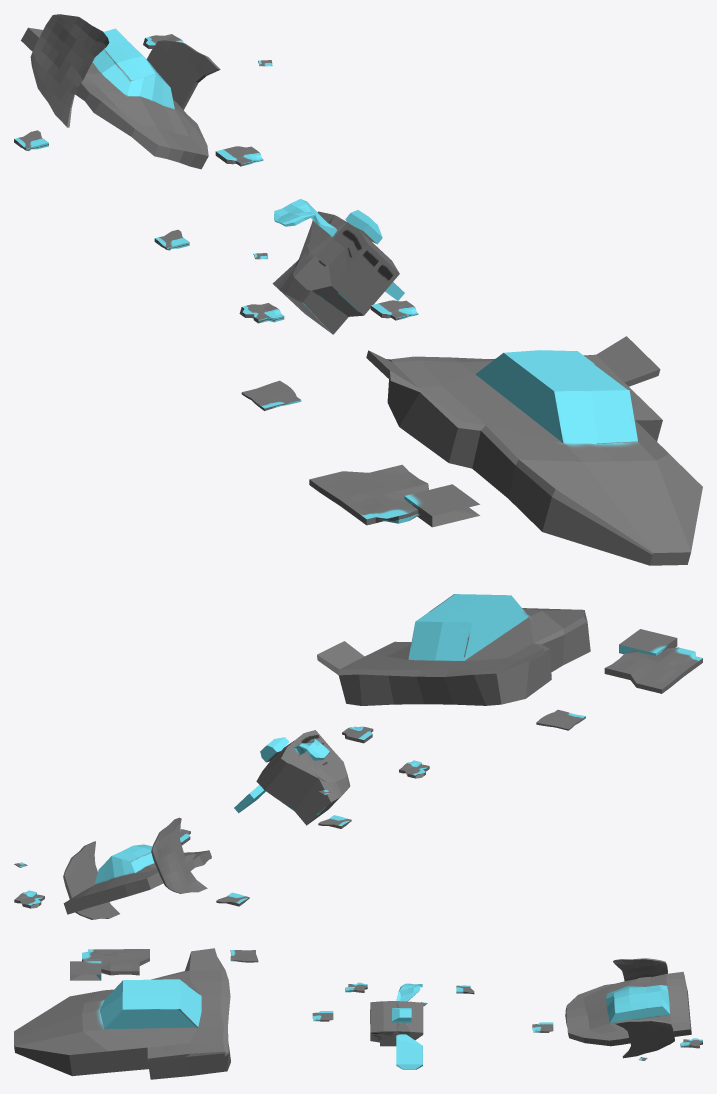
File: spaceships_wrecked.gltf
3 views of the same model, one above another, from view 1: azimuth 30°, elevation 25°; view 2: azimuth 150°, elevation 25°; view 3: azimuth 270°, elevation 25° (orthographic). The views are drawn at different scales.
Parts seen in each view (by area): view 1: sapceship3, spaceship1, spaceship2; view 2: sapceship3, spaceship1, spaceship2; view 3: sapceship3, spaceship1, spaceship2.
Part boxes in pixels (x1,y1,x2,y2): sapceship3: (241, 336, 702, 565); spaceship1: (14, 14, 272, 169); spaceship2: (154, 199, 418, 334); sapceship3: (317, 594, 702, 730); spaceship1: (14, 817, 249, 919); spaceship2: (234, 726, 429, 828); sapceship3: (14, 948, 258, 1079); spaceship1: (532, 958, 702, 1060); spaceship2: (312, 982, 474, 1069).
Bounding box in the file's own units: 7.14 × 2.73 × 18.83.
